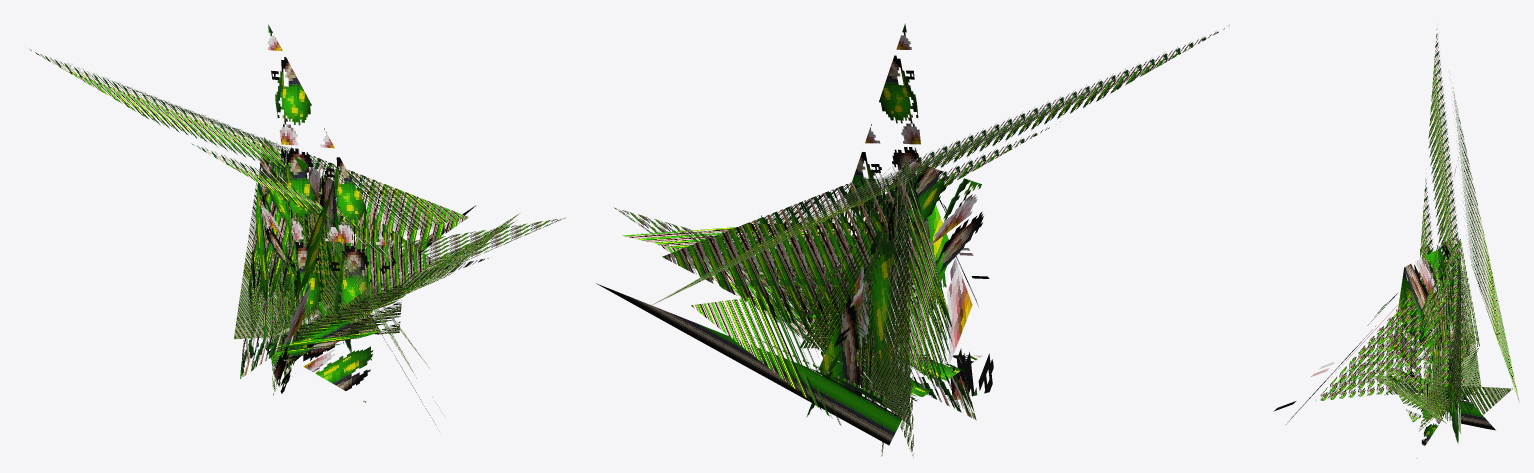
Rendered from assets0A_model_000.obj.
3 renders of one model, left to right at view 1: azimuth 30°, elevation 25°; view 2: azimuth 150°, elevation 25°; view 3: azimuth 270°, elevation 25°, orthographic. The views are drawn at different scales.
Parts seen in each view (by area): view 1: assets0A_model_000; view 2: assets0A_model_000; view 3: assets0A_model_000.
Boxes of the visible parts, x1=… form: assets0A_model_000: x1=24, y1=24, x2=565, y2=424; assets0A_model_000: x1=596, y1=23, x2=1229, y2=456; assets0A_model_000: x1=1273, y1=22, x2=1519, y2=445.
Size of the model in its own units: 57.39 by 44.07 by 30.82.
1 material, 1 textured.
